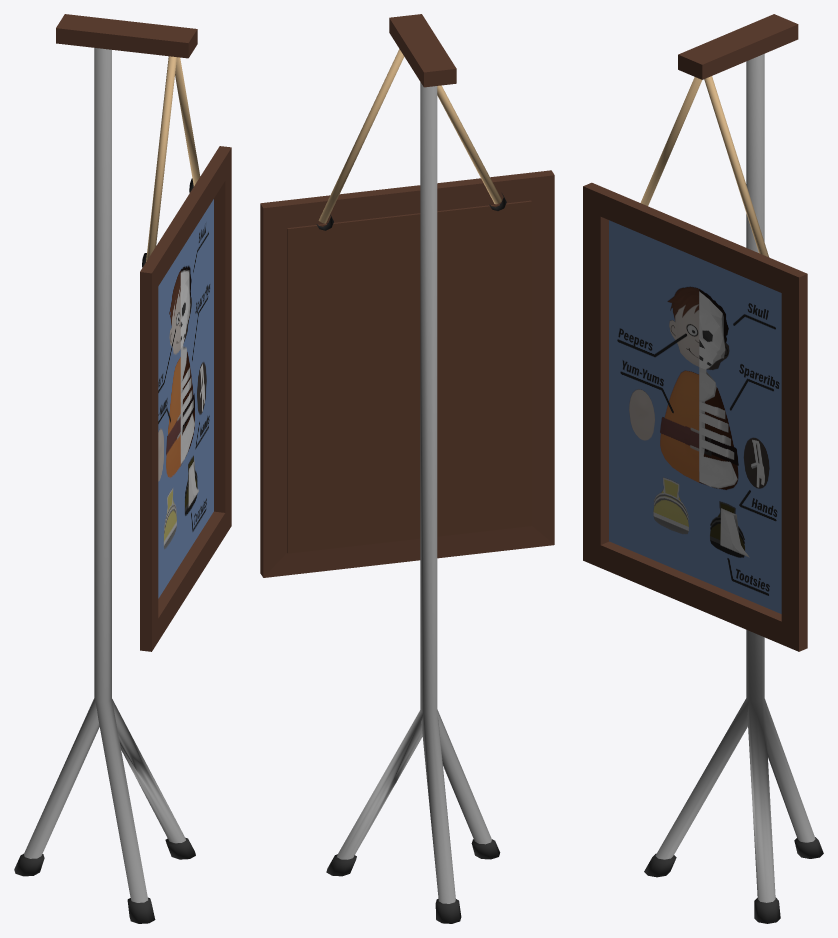
The picture shows the model from 3 angles, left to right: view 1: azimuth 30°, elevation 25°; view 2: azimuth 150°, elevation 25°; view 3: azimuth 270°, elevation 25°; orthographic projection. The views are drawn at different scales.
Parts seen in each view (by area): view 1: Plane.033; view 2: Plane.033; view 3: Plane.033.
Boxes of the visible parts, x1,y1,x2,y2 form: Plane.033: [14, 14, 231, 923]; Plane.033: [260, 14, 554, 923]; Plane.033: [583, 14, 823, 923].
Size of the model in its own units: 0.6647 by 2.58 by 0.6658.
Materials: 2 (2 with a texture image).
